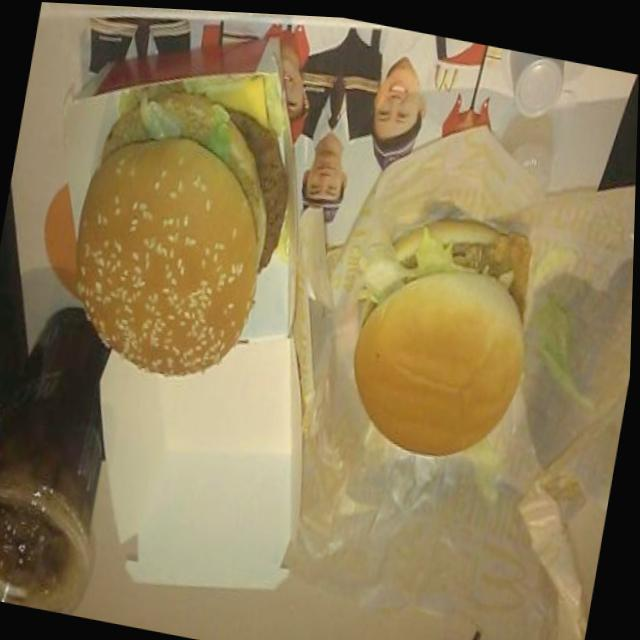汉堡快餐: (40, 47, 308, 421), (330, 202, 561, 478)
